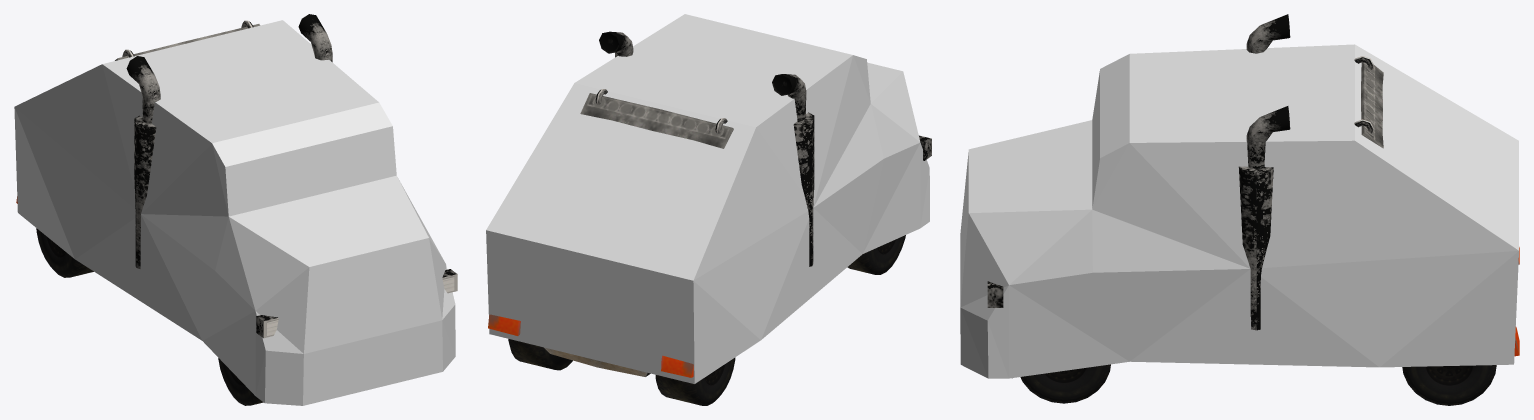
File: truck.FBX
3 views of the same model, side by side, from view 1: azimuth 30°, elevation 25°; view 2: azimuth 150°, elevation 25°; view 3: azimuth 270°, elevation 25° (orthographic). The views are drawn at different scales.
Visible parts, largest first — view 1: truck_col, truck, wheel02, wheel03; view 2: truck_col, truck, wheel02, wheel03, wheel005; view 3: truck_col, truck, wheel005, wheel004.
Boxes of the visible parts, x1,y1,x2,y2 form: truck_col: (14, 20, 455, 405); truck: (16, 14, 457, 338); wheel02: (36, 228, 93, 277); wheel03: (218, 358, 263, 405); truck_col: (486, 14, 929, 383); truck: (488, 31, 931, 377); wheel02: (655, 357, 735, 405); wheel03: (847, 235, 905, 274); wheel005: (508, 339, 572, 370); truck_col: (960, 44, 1518, 378); truck: (987, 14, 1519, 378); wheel005: (1402, 365, 1496, 405); wheel004: (1020, 364, 1110, 403).
Bounding box in the file's own units: 334 × 408 × 696.
